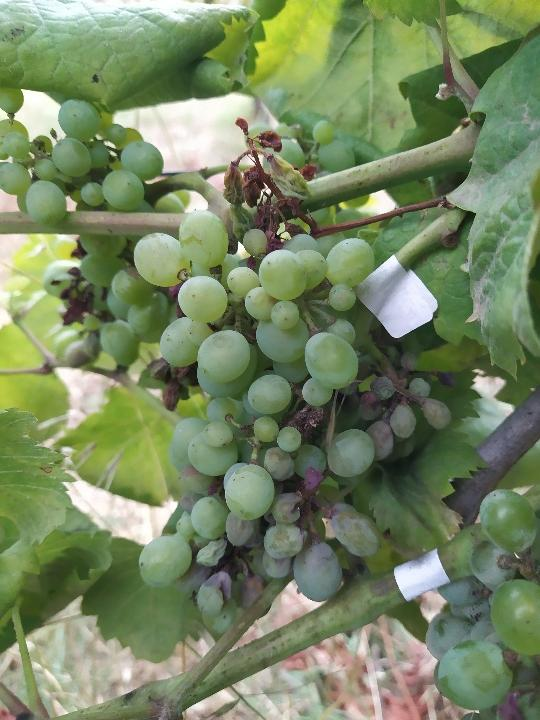grape: (126, 115, 454, 628), (1, 84, 185, 368)
